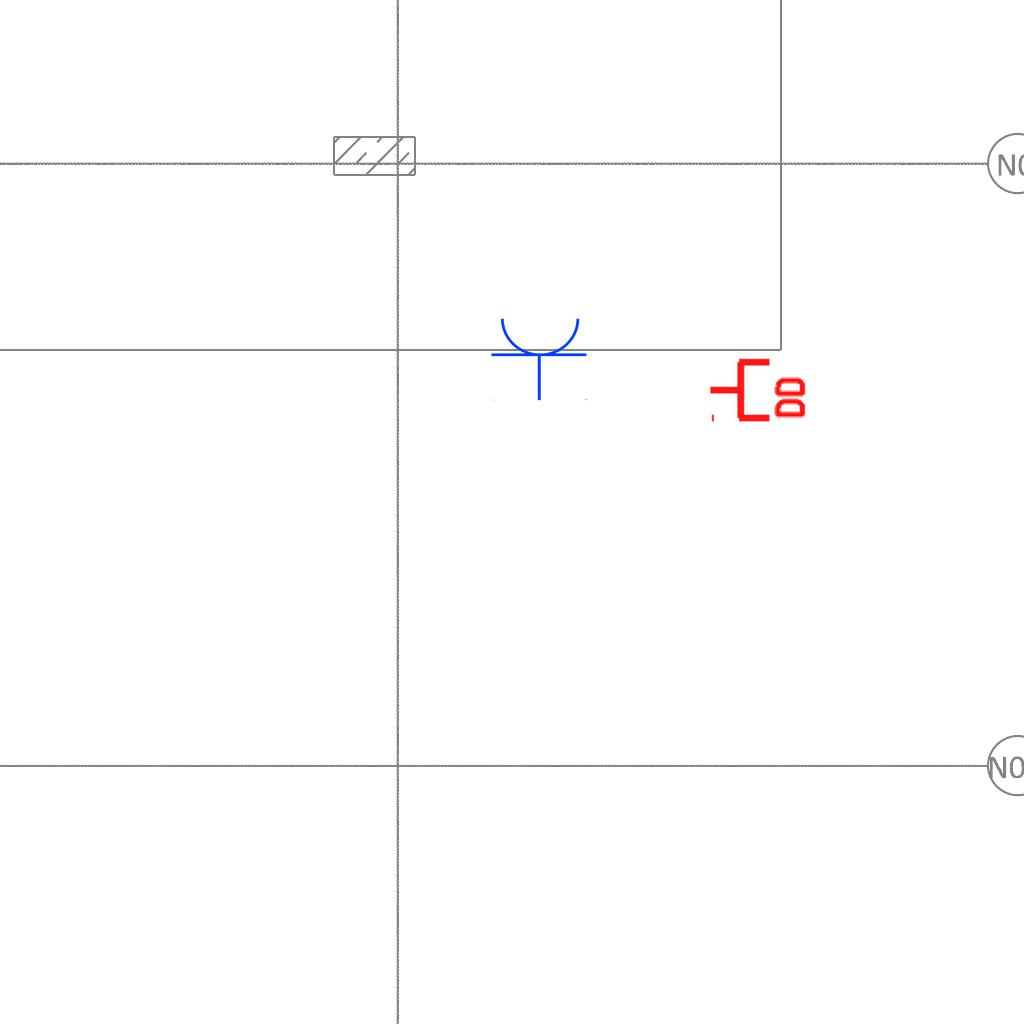Datenanschluss_zweifach: (707, 354, 810, 423)
Schukosteckdose_einfach: (490, 314, 590, 401)
